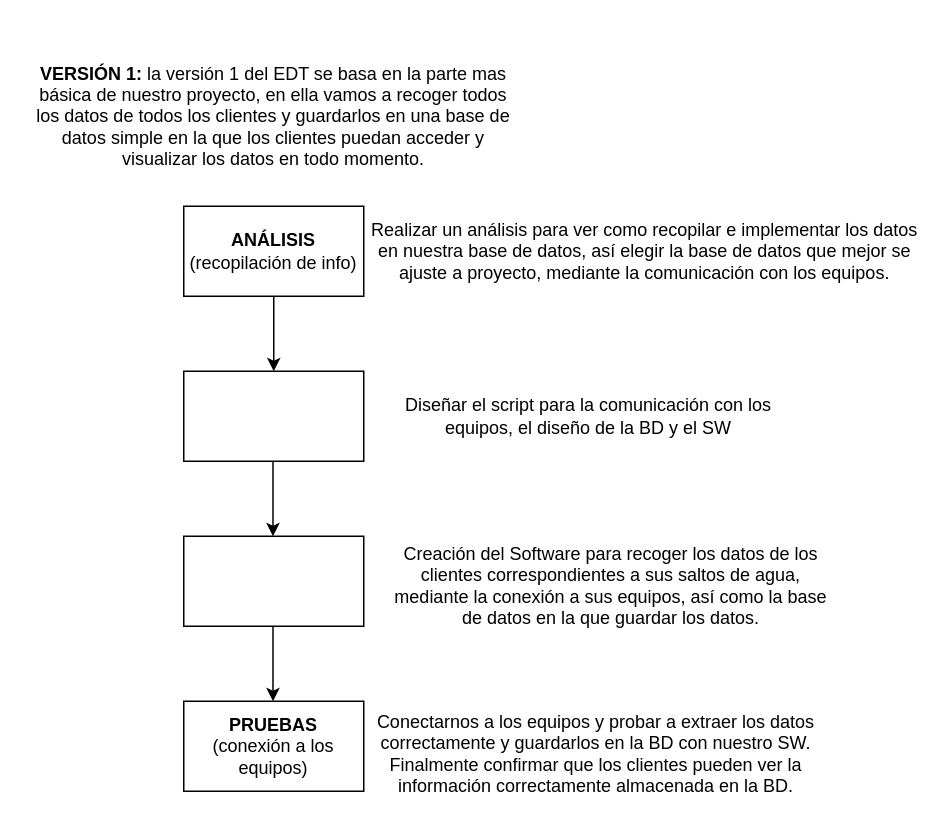
This 951x831 diagram has some shape labels left out. The box of each missing label's shape, as (x1, y1, x2, y2) in pixels:
CODIFICACIÓN (software recopilar datos): (182, 535, 364, 626)
DISEÑO (script comunicación): (182, 370, 364, 461)
